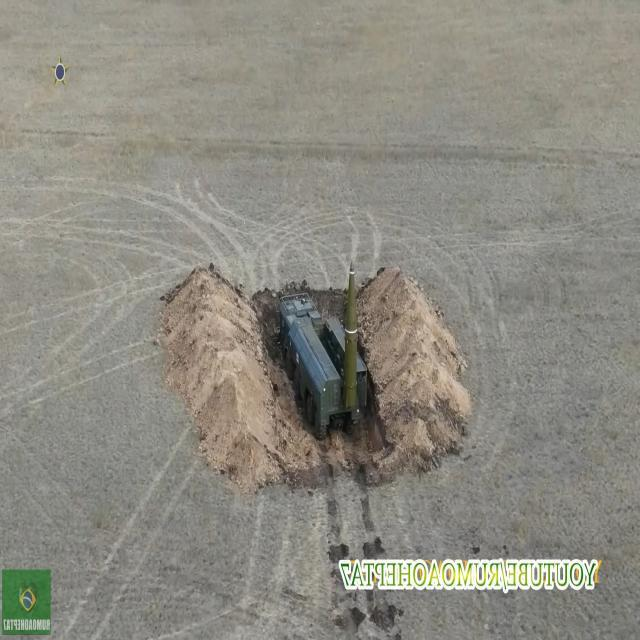Missile: (341, 254, 361, 426)
